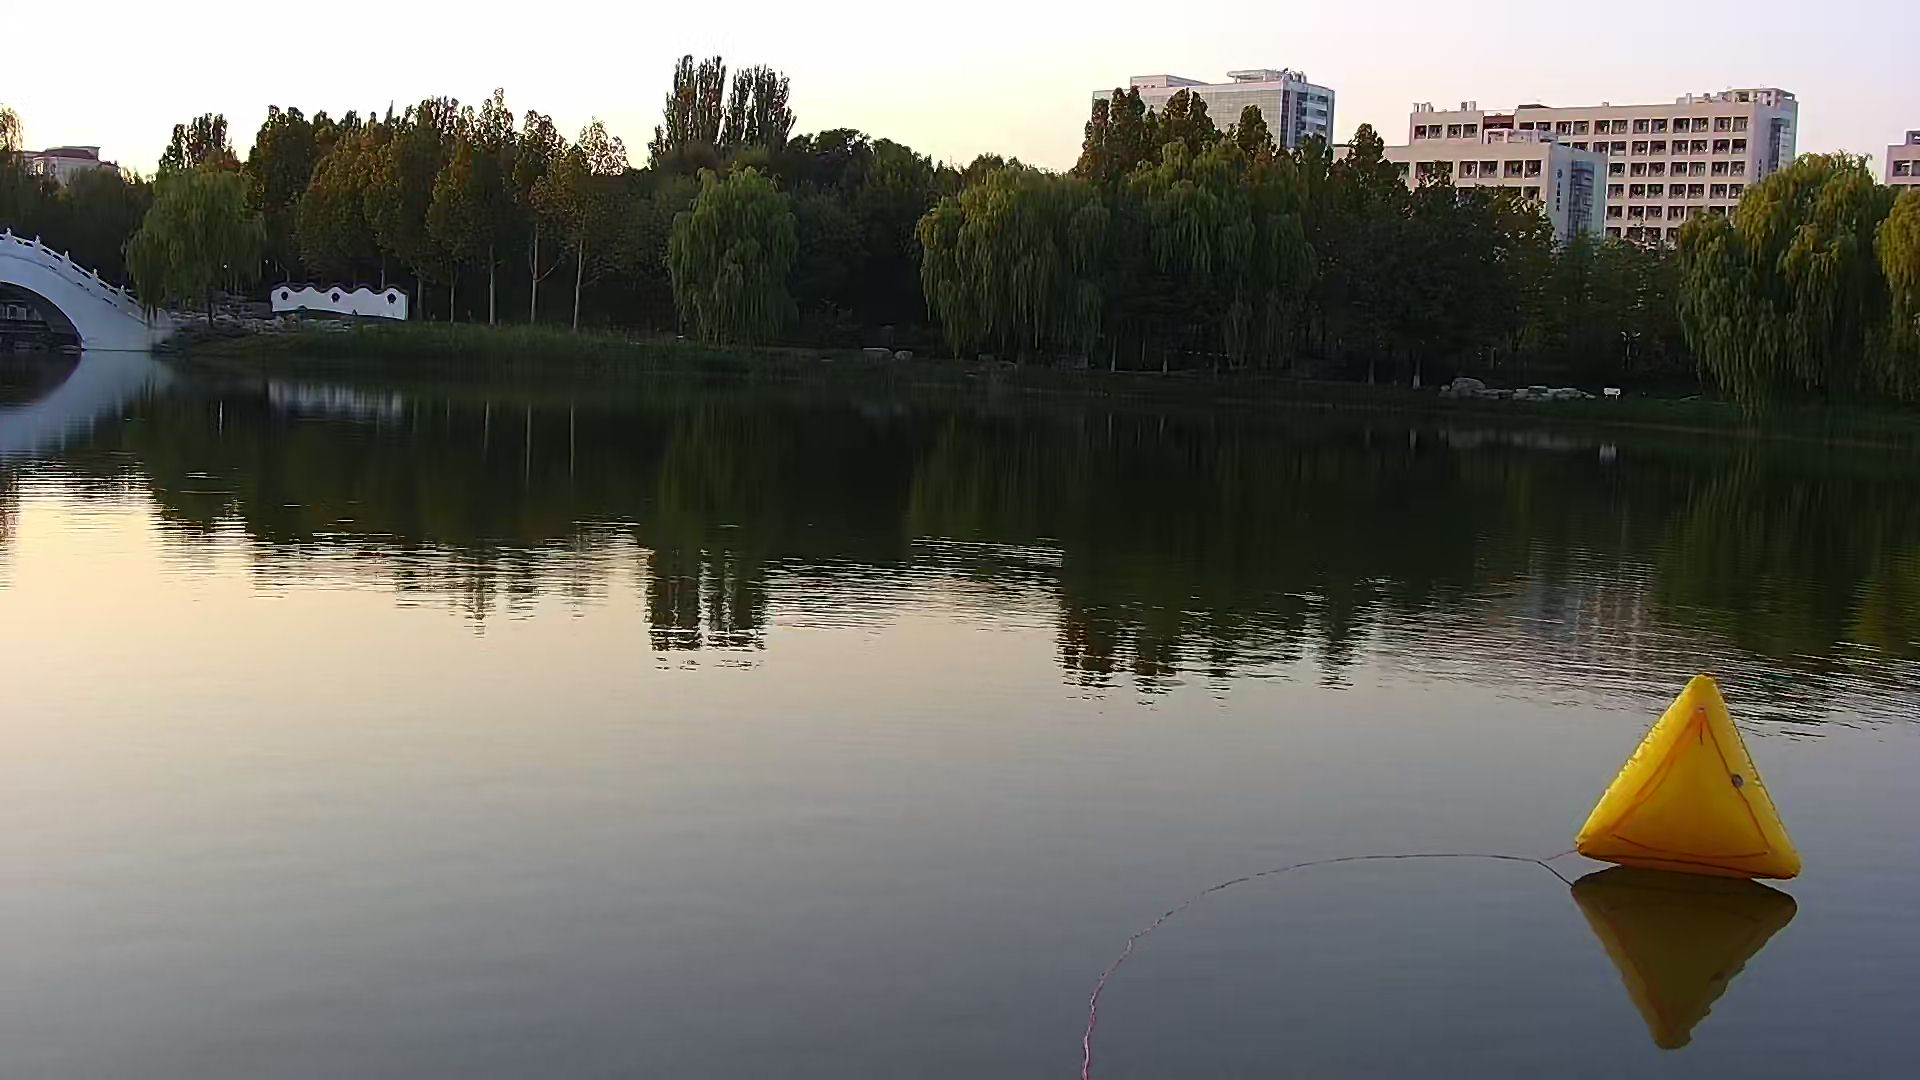rubbish: (1578, 663, 1811, 885)
